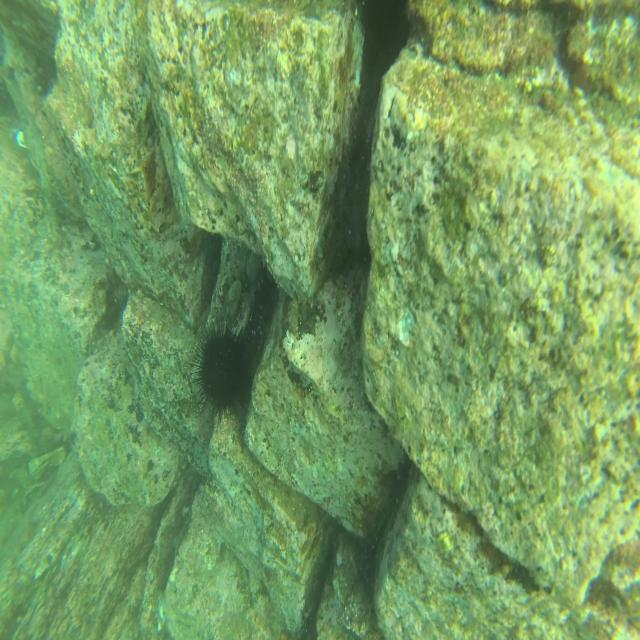echinus: (188, 318, 251, 420)
